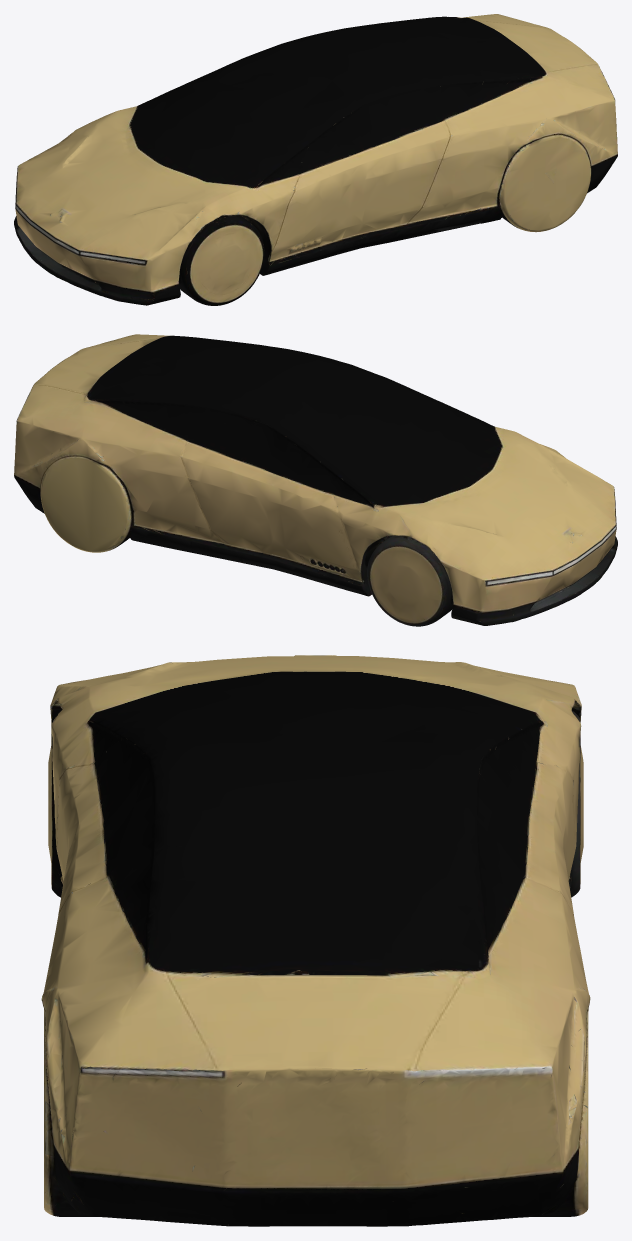
File: robotaxi-cybercab.glb
The picture shows the model from 3 angles, top to bottom: view 1: azimuth 30°, elevation 25°; view 2: azimuth 150°, elevation 25°; view 3: azimuth 270°, elevation 25°; orthographic projection. The views are drawn at different scales.
Visible parts, largest first — view 1: Mesh_0; view 2: Mesh_0; view 3: Mesh_0.
Part boxes in pixels (left/top/right/bottom): Mesh_0: left=14, top=14, right=617, bottom=305; Mesh_0: left=14, top=334, right=617, bottom=626; Mesh_0: left=41, top=655, right=590, bottom=1226.
Bounding box in the file's own units: 1.9 × 0.5257 × 0.8462.
Materials: 1 (1 with a texture image).
